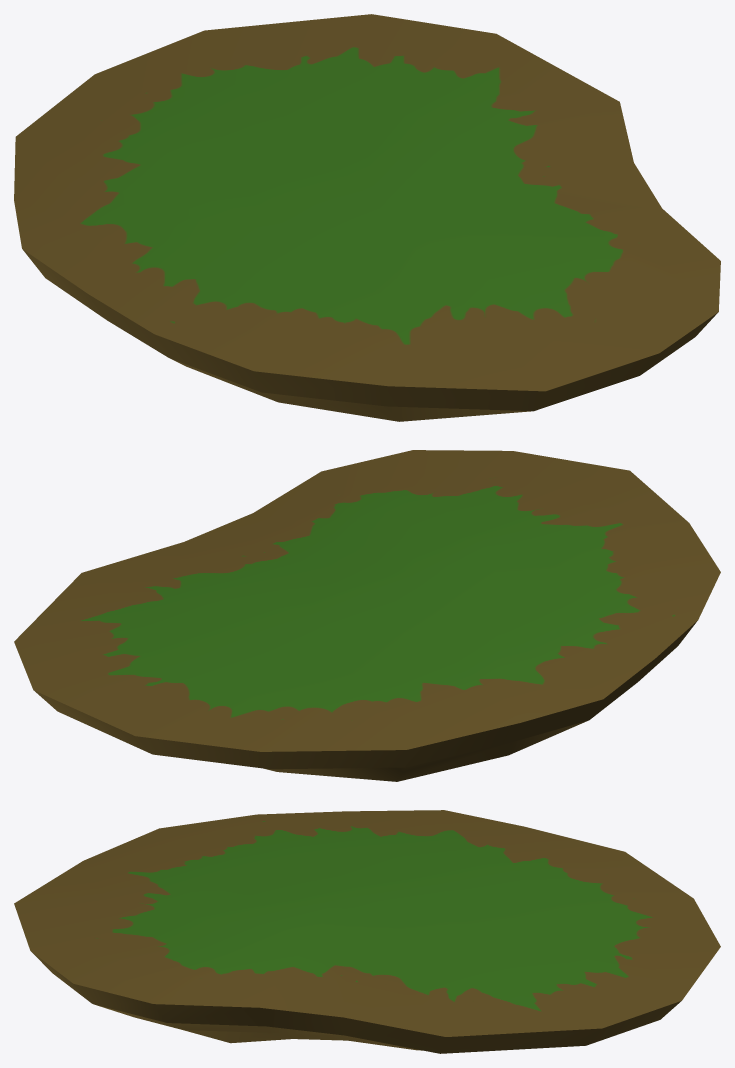
File: BigIslandRight.FBX
The picture shows the model from 3 angles, top to bottom: view 1: azimuth 30°, elevation 25°; view 2: azimuth 150°, elevation 25°; view 3: azimuth 270°, elevation 25°; orthographic projection. The views are drawn at different scales.
Visible parts, largest first — view 1: BigRightIsland001; view 2: BigRightIsland001; view 3: BigRightIsland001.
Part boxes in pixels (x1,y1,x2,y2): BigRightIsland001: (14, 14, 720, 421); BigRightIsland001: (14, 450, 720, 781); BigRightIsland001: (14, 810, 720, 1053).
Size of the model in its own units: 289 by 65.58 by 381.
1 material, 1 textured.
